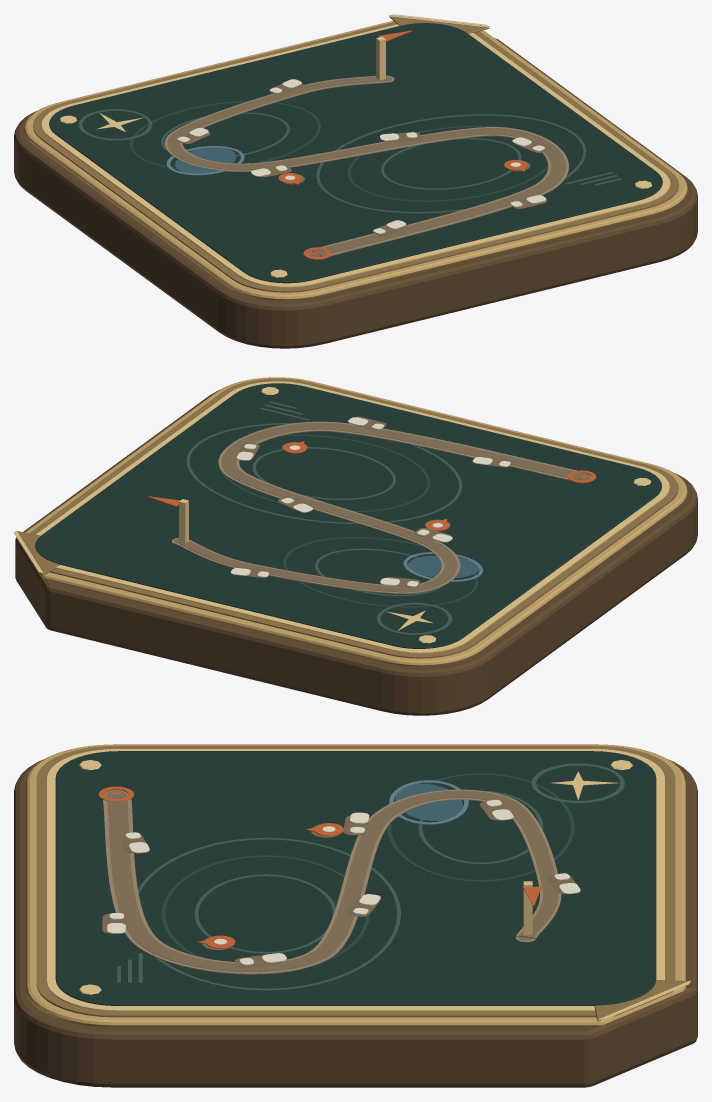
The model's file is days_7.glb.
3 renders of one model, top to bottom at view 1: azimuth 30°, elevation 25°; view 2: azimuth 150°, elevation 25°; view 3: azimuth 270°, elevation 25°, orthographic. The views are drawn at different scales.
Parts seen in each view (by area): view 1: DP_Field, DP_Body, DP_FrameAll, DP_Trail1, DP_Contours, DP_Trail0, DP_Feet, DP_FeetShadow, DP_Lake, DP_Rose; view 2: DP_Field, DP_Body, DP_FrameAll, DP_Trail1, DP_Contours, DP_Trail0, DP_Feet, DP_FeetShadow, DP_Lake, DP_Rose; view 3: DP_Field, DP_Body, DP_FrameAll, DP_Trail1, DP_Contours, DP_Trail0, DP_Feet, DP_FeetShadow, DP_Lake, DP_Rose, DP_Pins, DP_LakeRim.
Part boxes in pixels (box(x1,y1,x2,y2)): DP_Field: box(49, 23, 662, 283); DP_Body: box(14, 38, 697, 348); DP_FrameAll: box(24, 14, 687, 300); DP_Trail1: box(167, 76, 565, 256); DP_Contours: box(129, 101, 586, 213); DP_Trail0: box(164, 76, 568, 256); DP_Feet: box(177, 79, 546, 233); DP_FeetShadow: box(177, 83, 549, 235); DP_Lake: box(174, 147, 236, 173); DP_Rose: box(78, 109, 152, 140); DP_Field: box(35, 383, 662, 648); DP_Body: box(15, 390, 697, 715); DP_FrameAll: box(14, 377, 687, 666); DP_Trail1: box(176, 422, 585, 592); DP_Contours: box(186, 423, 478, 607); DP_Trail0: box(174, 421, 585, 593); DP_Feet: box(230, 417, 510, 586); DP_FeetShadow: box(235, 416, 512, 587); DP_Lake: box(407, 555, 478, 578); DP_Rose: box(377, 602, 452, 635); DP_Field: box(55, 751, 656, 1005); DP_Body: box(14, 759, 697, 1087); DP_FrameAll: box(26, 744, 690, 1027); DP_Trail1: box(106, 790, 558, 971); DP_Contours: box(138, 773, 574, 990); DP_Trail0: box(103, 789, 561, 974); DP_Feet: box(107, 799, 580, 965); DP_FeetShadow: box(102, 801, 575, 967); DP_Lake: box(395, 783, 462, 821); DP_Rose: box(531, 763, 624, 803); DP_Pins: box(197, 823, 343, 950); DP_LakeRim: box(389, 780, 468, 824).
Size of the model in its own units: 0.0394 by 0.0076 by 0.0394.
